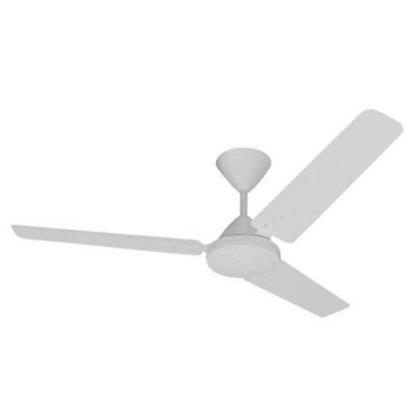ceiling-fan: (9, 108, 404, 319)
